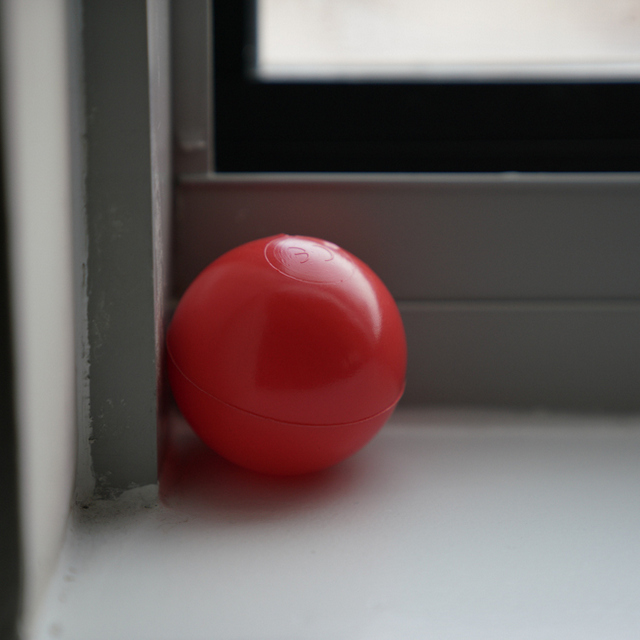Ball: (160, 229, 410, 473)
